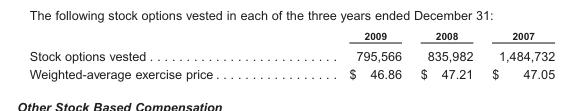table: (28, 29, 554, 80)
table column: (28, 29, 283, 80), (283, 29, 410, 80), (481, 29, 554, 80), (410, 29, 481, 80)
table column header: (28, 29, 554, 44)
table row: (28, 44, 554, 64), (28, 64, 554, 80), (28, 29, 554, 44)
